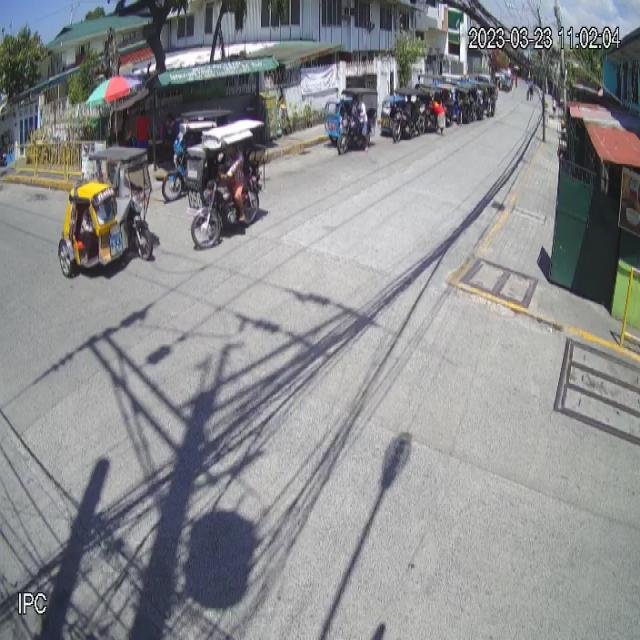Tricycle: (57, 145, 154, 278), (184, 120, 266, 248)
